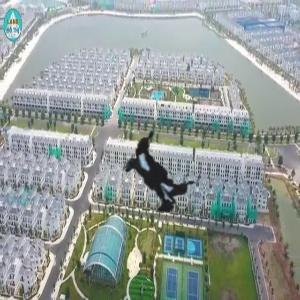drone: (46, 66, 272, 292)
